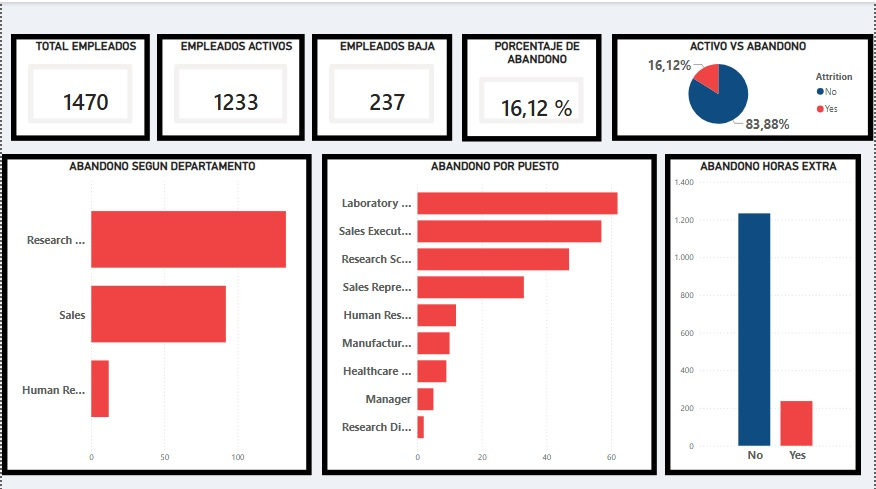

The dashboard page shown, as its layout file describes it:
{"tool":"powerbi","page":{"name":"Executive Overview","canvas":[1280,720],"ordinal":0},"visuals":[{"type":"cardVisual","title":"TOTAL EMPLEADOS","fields":{"Data":["calculo.total empleados"]},"box":[13.2,47,204.2,157.2],"z":0},{"type":"cardVisual","title":"EMPLEADOS BAJA","fields":{"Data":["calculo.EMPLEADOS ACTIVOS"]},"box":[455.5,47,205.7,157.2],"z":1000},{"type":"cardVisual","title":"PORCENTAJE DE ABANDONO","fields":{"Data":["calculo.porcentaje abandono"]},"box":[675.3,47,204.9,157.9],"z":2000},{"type":"cardVisual","title":"EMPLEADOS ACTIVOS","fields":{"Data":["calculo.empleados activos"]},"box":[227.8,47,217.5,157.2],"z":3000},{"type":"pieChart","title":"ACTIVO VS ABANDONO","fields":{"Y":["CountNonNull(employees_hr_final.Attrition)"],"Category":["employees_hr_final.Attrition"]},"box":[896.3,47,383.5,157.2],"z":4000},{"type":"barChart","title":"ABANDONO SEGUN DEPARTAMENTO","fields":{"Category":["employees_hr_final.Department"],"Y":["calculo.empleados dado baja"]},"box":[0,223.4,455.2,472],"z":5000},{"type":"clusteredBarChart","title":"ABANDONO POR PUESTO","fields":{"Category":["employees_hr_final.JobRole"],"Y":["calculo.empleados dado baja"]},"box":[470.2,223.3,492.2,471.7],"z":6000},{"type":"clusteredColumnChart","title":"ABANDONO HORAS EXTRA","fields":{"Y":["CountNonNull(employees_hr_final.OverTime)"],"Category":["employees_hr_final.Attrition"]},"box":[974.2,223.3,288,471.7],"z":7000}]}

Visuals, with their boxes in screenshot pixels (x1, y1, x2, y2), scaled from the page's 1280x720 canvas onto the 876x489 screenshot:
"TOTAL EMPLEADOS" cardVisual: [9,32,149,139]
"EMPLEADOS BAJA" cardVisual: [312,32,453,139]
"PORCENTAJE DE ABANDONO" cardVisual: [462,32,602,139]
"EMPLEADOS ACTIVOS" cardVisual: [156,32,305,139]
"ACTIVO VS ABANDONO" pieChart: [613,32,875,139]
"ABANDONO SEGUN DEPARTAMENTO" barChart: [0,152,312,472]
"ABANDONO POR PUESTO" clusteredBarChart: [322,152,659,472]
"ABANDONO HORAS EXTRA" clusteredColumnChart: [667,152,864,472]
